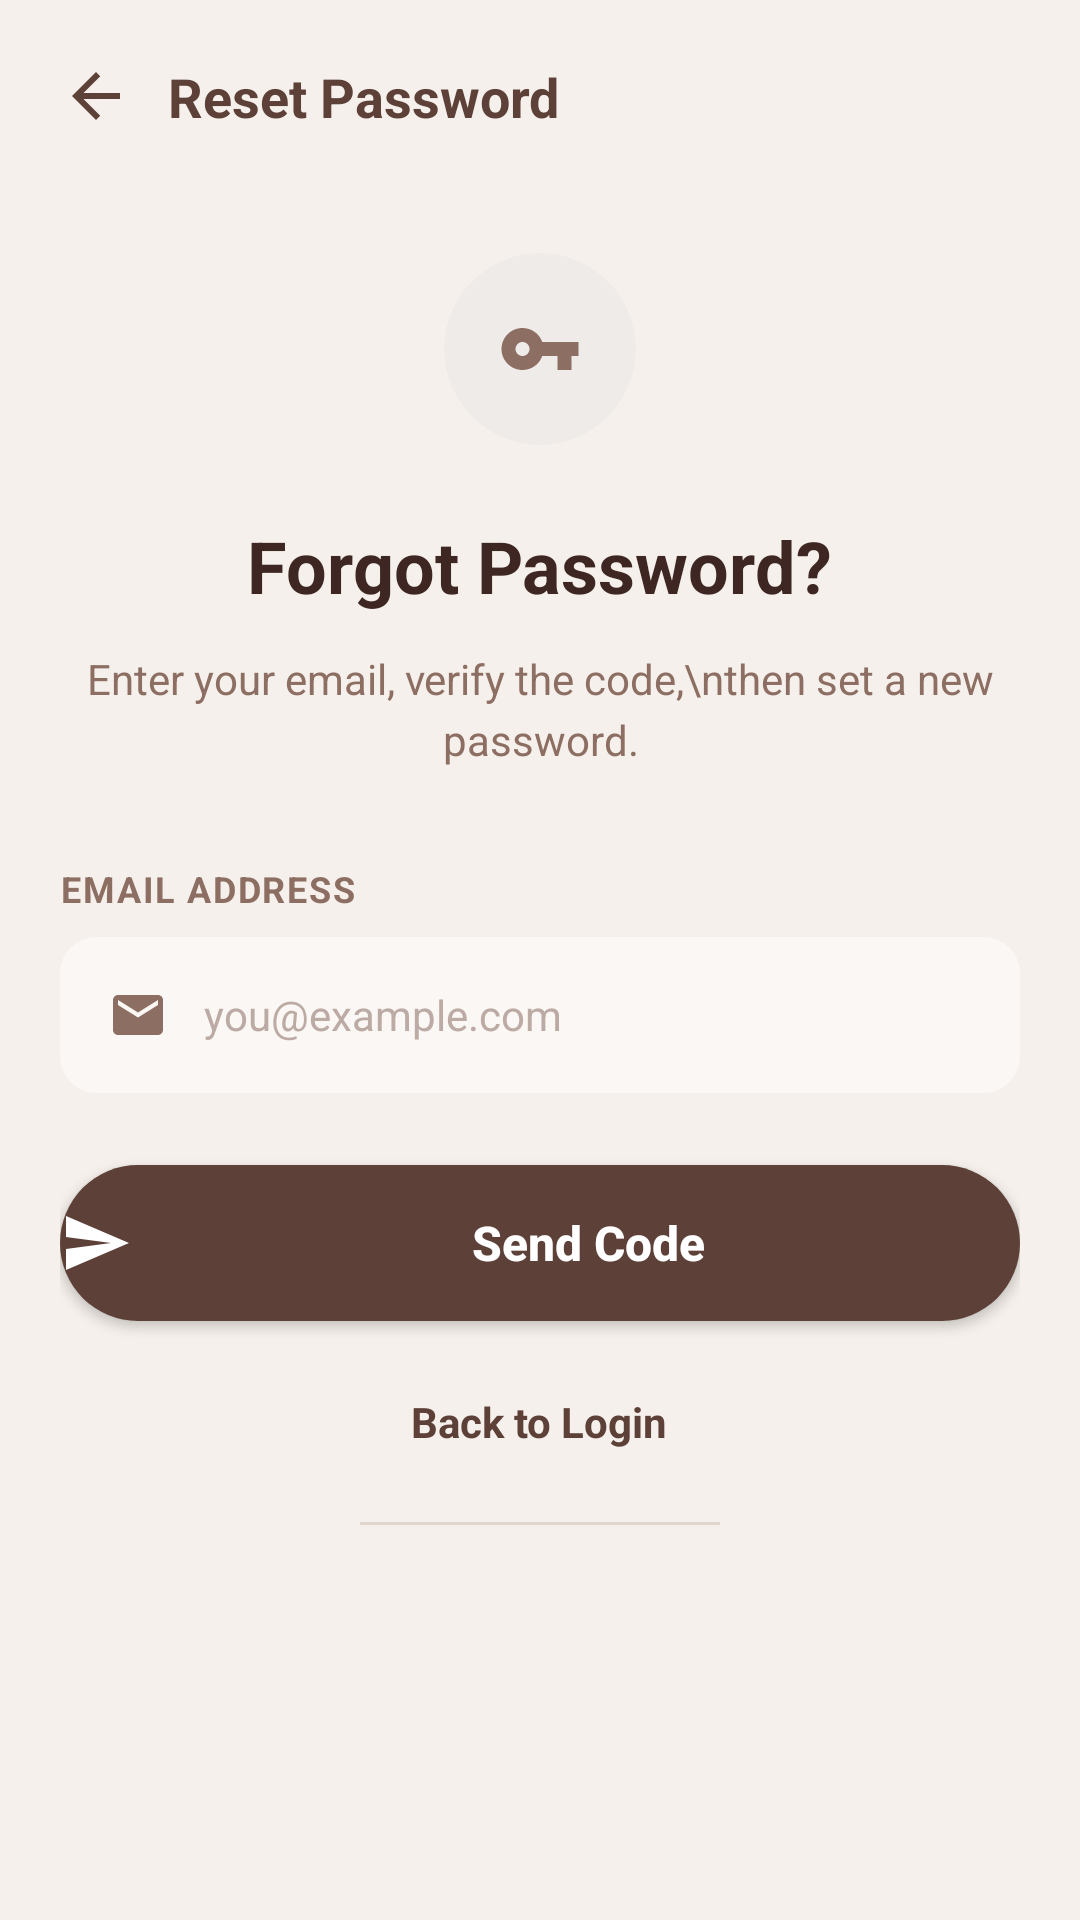

Named icons in this screenshot (1080×1920) and their centers, (x,y):
Back: (96,96)
Key icon: (540,349)
